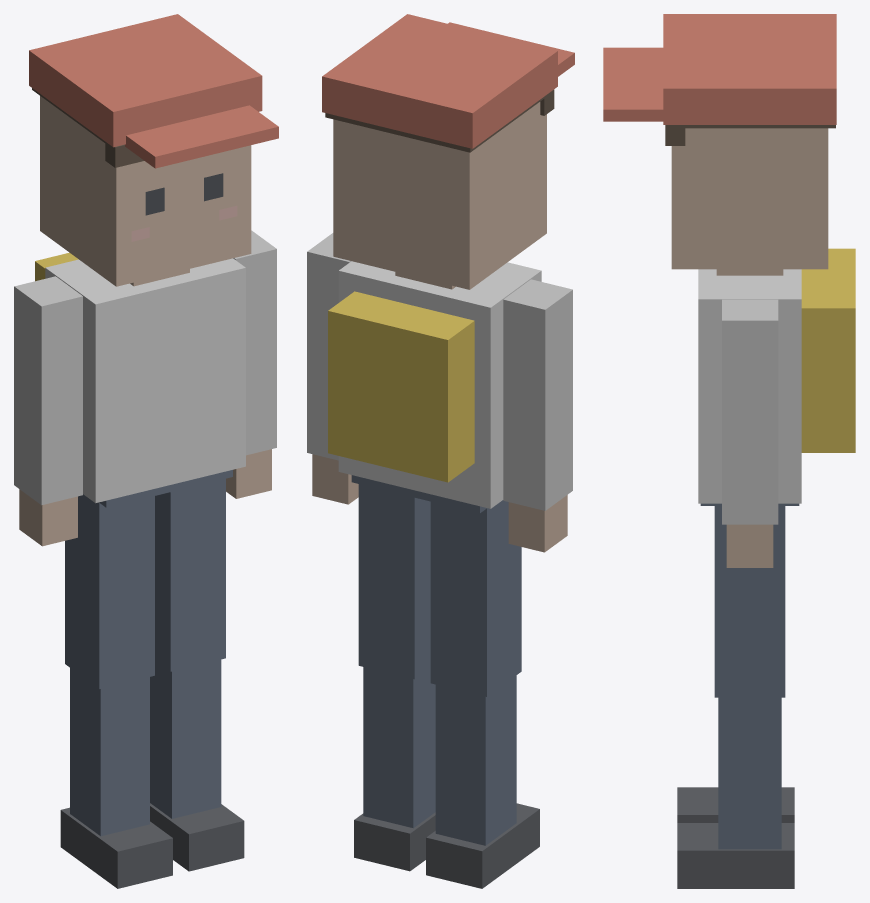
Rendered from walker_9.glb.
The picture shows the model from 3 angles, left to right: view 1: azimuth 30°, elevation 25°; view 2: azimuth 150°, elevation 25°; view 3: azimuth 270°, elevation 25°; orthographic projection. The views are drawn at different scales.
Parts seen in each view (by area): view 1: walker_9; view 2: walker_9; view 3: walker_9.
Boxes of the visible parts, x1,y1,x2,y2 form: walker_9: (14,14,278,888); walker_9: (307,14,574,888); walker_9: (603,14,855,888).
Bounding box in the file's own units: 0.3927 × 1.25 × 0.3547.
